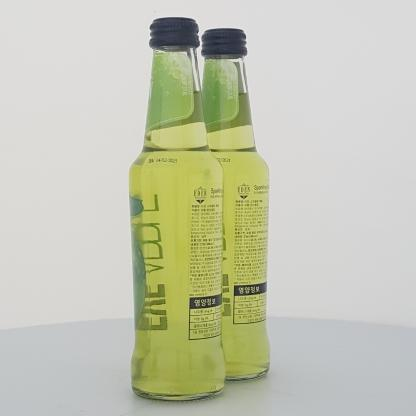----------------: (129, 16, 227, 402), (192, 27, 270, 381)
